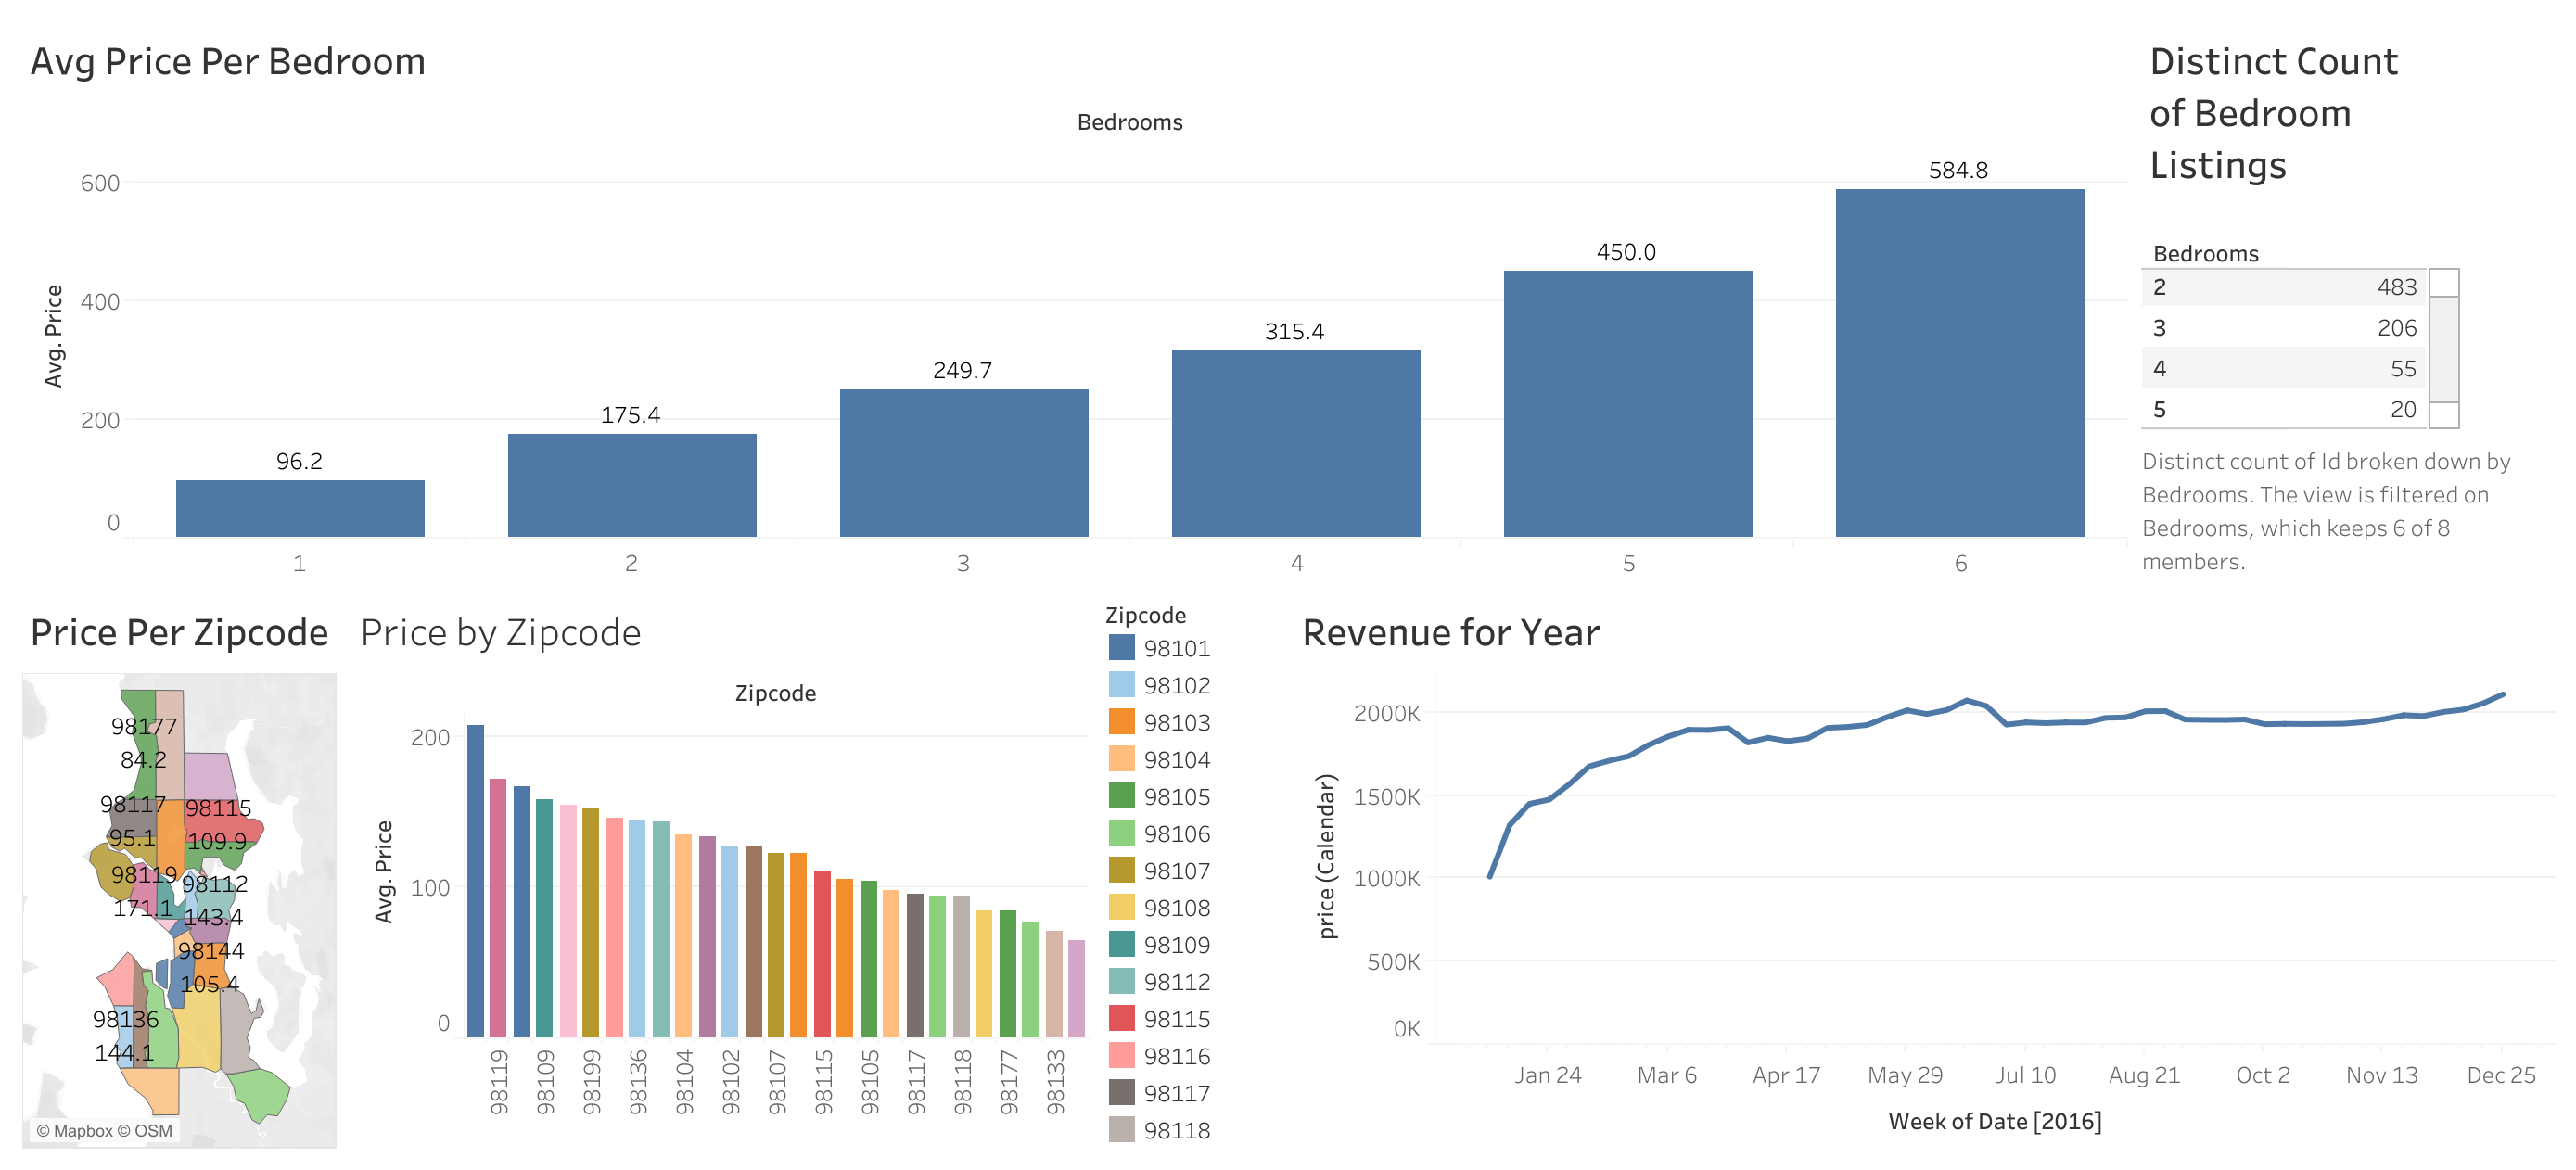

The page's visual inventory and layout, read from the dashboard file:
{"tool":"tableau","page":{"name":"Dashboard 1","canvas":[1000,1000],"units":"permille","ordinal":0},"visuals":[{"type":"worksheet","title":"Sheet 4","mark":"Automatic","rows":["price"],"cols":["bedrooms"],"box":[6.5,10.7,821,489.3]},{"type":"worksheet","title":"Sheet 5","mark":"Automatic","rows":["bedrooms"],"box":[827.5,10.7,166,489.3]},{"type":"worksheet","title":"Sheet 2","mark":"Multipolygon","box":[6.5,500,127.8,489.3]},{"type":"worksheet","title":"Sheet 1","mark":"Automatic","rows":["price"],"cols":["zipcode"],"box":[134.3,500,291.3,489.3]},{"type":"legend","title":"Sheet 1","param":"[federated.0ftp3am0mo4bsz1710s011gtdn7q].[none:zipcode:ok]","box":[425.6,500,74,489.3]},{"type":"worksheet","title":"Sheet 3","mark":"Automatic","rows":["price (Calendar)"],"cols":["date"],"box":[499.6,500,493.9,489.3]}]}

Visuals, with their boxes on the dashboard's canvas, which has no fixed pixel size, in thousandths of its width and height (x1, y1, x2, y2). These are canvas units, not pixel positions in the 2576x1170 screenshot, which may show the page scaled, cropped or inside an application window:
"Sheet 4" worksheet: (x1=6, y1=11, x2=828, y2=500)
"Sheet 5" worksheet: (x1=828, y1=11, x2=994, y2=500)
"Sheet 2" worksheet (Multipolygon marks): (x1=6, y1=500, x2=134, y2=989)
"Sheet 1" worksheet: (x1=134, y1=500, x2=426, y2=989)
"Sheet 1" legend: (x1=426, y1=500, x2=500, y2=989)
"Sheet 3" worksheet: (x1=500, y1=500, x2=994, y2=989)
